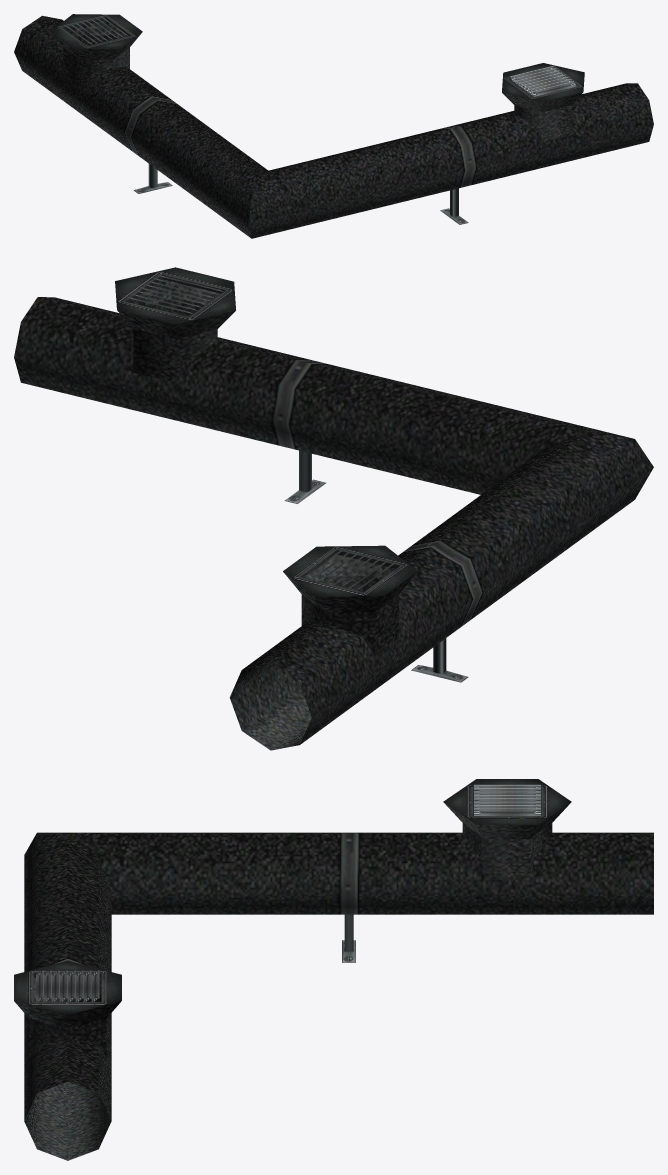
Rendered from airducts_round_l.fbx.
3 renders of one model, top to bottom at view 1: azimuth 30°, elevation 25°; view 2: azimuth 150°, elevation 25°; view 3: azimuth 270°, elevation 25°, orthographic. The views are drawn at different scales.
Visible parts, largest first — view 1: mesh_0; view 2: mesh_0; view 3: mesh_0.
Part boxes in pixels (x1,y1,x2,y2): mesh_0: (14, 14, 653, 238); mesh_0: (14, 267, 653, 750); mesh_0: (14, 779, 653, 1160).
Bounding box in the file's own units: 218 × 58.48 × 218.
1 material, 1 textured.
